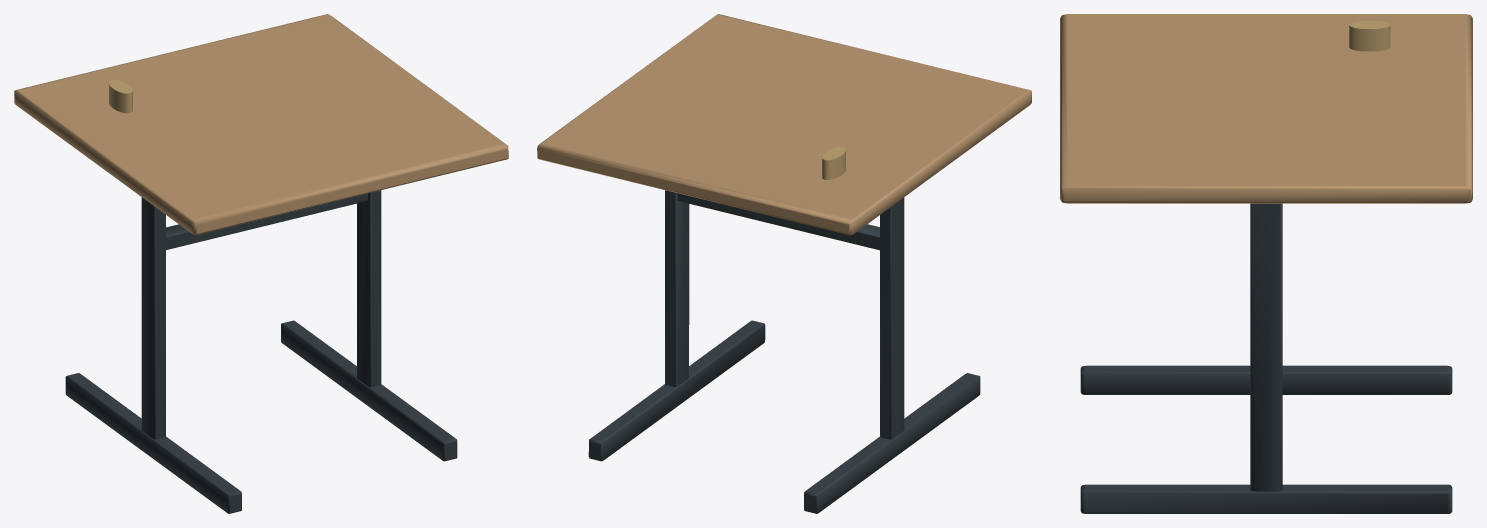
File: desk-5-1.lod.glb
The picture shows the model from 3 angles, left to right: view 1: azimuth 30°, elevation 25°; view 2: azimuth 150°, elevation 25°; view 3: azimuth 270°, elevation 25°; orthographic projection. The views are drawn at different scales.
Visible parts, largest first — view 1: upholstery (×2), part; view 2: upholstery (×2), part; view 3: upholstery (×2), part.
Part boxes in pixels (x1,y1,x2,y2): upholstery (×2): (14, 14, 508, 513); part: (109, 80, 132, 113); upholstery (×2): (537, 14, 1031, 513); part: (822, 146, 845, 179); upholstery (×2): (1060, 14, 1472, 513); part: (1349, 20, 1390, 51).
Bounding box in the file's own units: 1 × 1 × 1.
